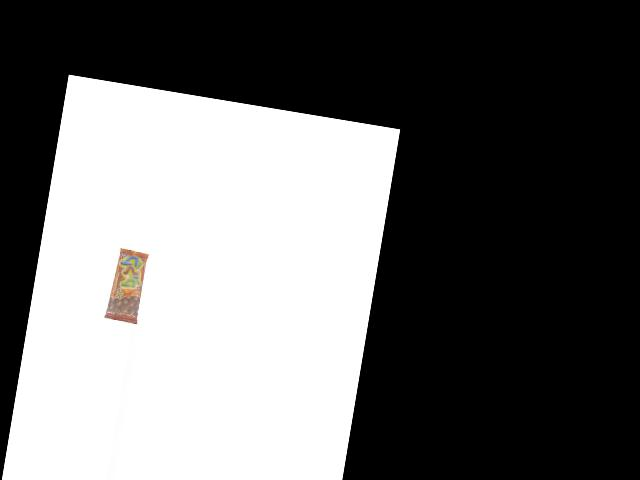chocolate: (105, 247, 149, 324)
